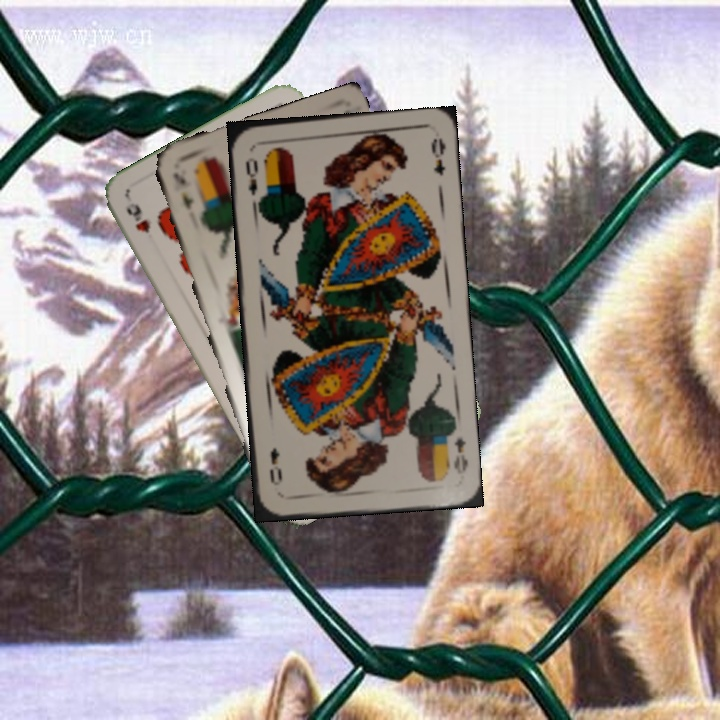EK: (169, 168, 196, 214)
EO: (449, 435, 471, 477), (242, 154, 261, 198)
H9: (122, 198, 153, 236)
